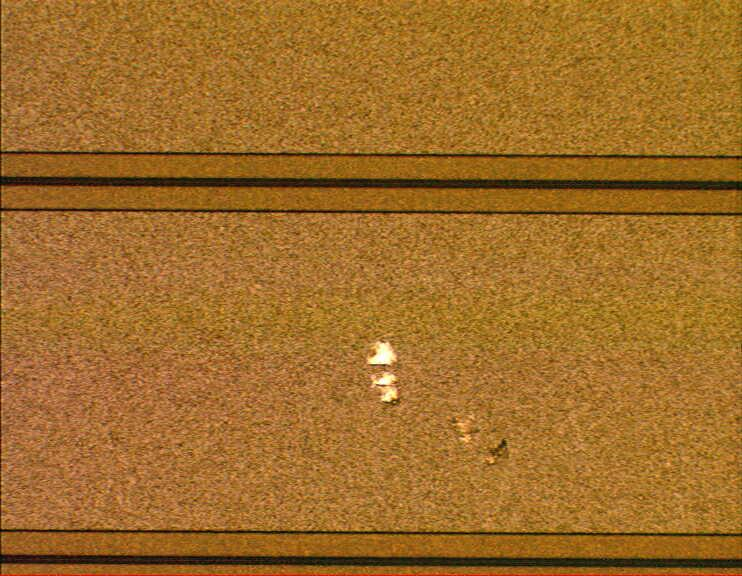SCRATCH: (344, 333, 533, 492)
